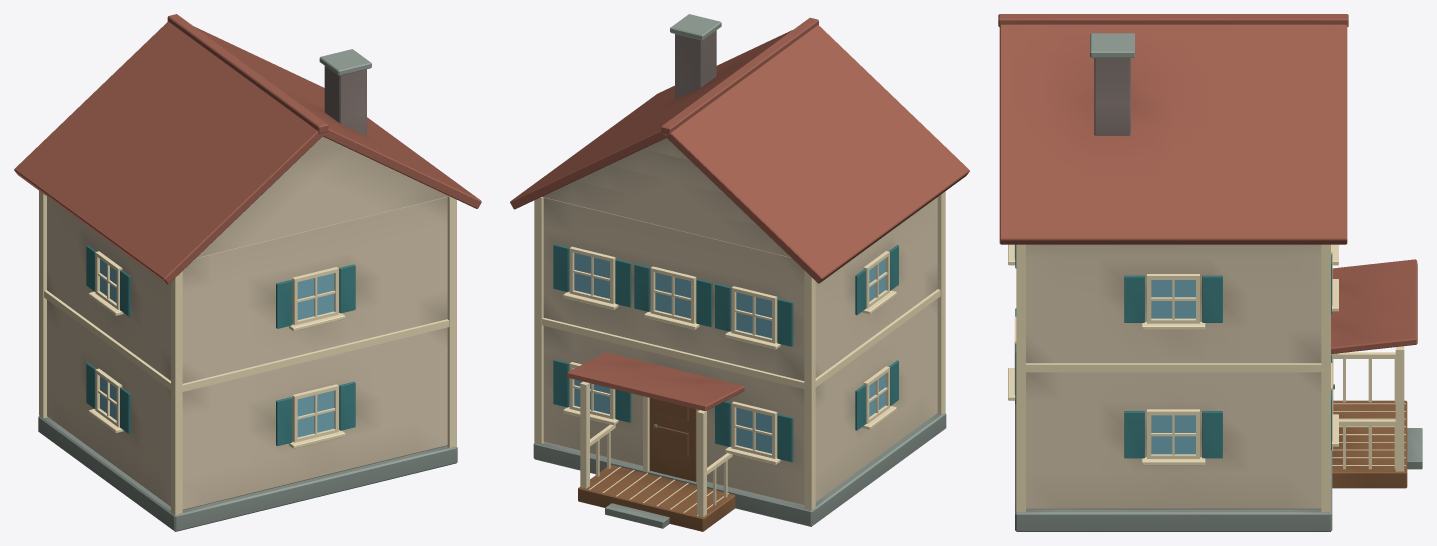
File: sm_arch_delivery_house_two_story.glb
3 renders of one model, left to right at view 1: azimuth 30°, elevation 25°; view 2: azimuth 150°, elevation 25°; view 3: azimuth 270°, elevation 25°, orthographic. The views are drawn at different scales.
Visible parts, largest first — view 1: HouseWalls, Roof, RoofGable.001, Foundation, Roof.001, CornerBoard, CornerBoard.002, FloorBand, Chimney, RoofRidge, CornerBoard.001, WindowGlass.002 (+7 smaller); view 2: HouseWalls, Roof, RoofGable, Roof.001, Foundation, Porch, PorchRoof, CornerBoard.001, CornerBoard.003, FrontDoor, FloorBand.001, Chimney (+22 smaller); view 3: Roof.001, HouseWalls, Foundation, PorchRoof, Porch, RoofRidge, FloorBand.003, Chimney, CornerBoard.002, CornerBoard.003, WindowGlass.004, WindowGlass.009 (+7 smaller).
Part boxes in pixels (x1,y1,x2,y2): HouseWalls: (47, 196, 447, 510); Roof: (14, 21, 323, 284); RoofGable.001: (196, 136, 448, 257); Foundation: (38, 416, 457, 531); Roof.001: (194, 26, 481, 208); CornerBoard: (171, 271, 182, 514); CornerBoard.002: (447, 196, 456, 447); FloorBand: (182, 319, 449, 391); Chimney: (324, 66, 366, 135); RoofRidge: (167, 14, 328, 133); CornerBoard.001: (39, 191, 47, 418); WindowGlass.002: (297, 390, 334, 437); HouseWalls: (543, 197, 937, 505); Roof: (666, 25, 969, 283); RoofGable: (542, 138, 790, 257); Roof.001: (510, 30, 792, 209); Foundation: (533, 413, 946, 526); Porch: (578, 465, 735, 531); PorchRoof: (567, 352, 744, 411); CornerBoard.001: (804, 270, 815, 510); CornerBoard.003: (534, 197, 544, 444); FrontDoor: (649, 398, 696, 481); FloorBand.001: (542, 318, 804, 389); Chimney: (675, 30, 716, 99); Roof.001: (999, 24, 1347, 244); HouseWalls: (1026, 244, 1321, 509); Foundation: (1015, 401, 1332, 531); PorchRoof: (1331, 259, 1417, 353); Porch: (1332, 400, 1407, 488); RoofRidge: (998, 14, 1348, 26); FloorBand.003: (1026, 363, 1321, 372); Chimney: (1094, 58, 1130, 135); CornerBoard.002: (1016, 244, 1025, 512); CornerBoard.003: (1321, 244, 1330, 512); WindowGlass.004: (1151, 415, 1195, 454); WindowGlass.009: (1151, 280, 1195, 318).
Bounding box in the file's own units: 6.95 × 8.15 × 6.95.
